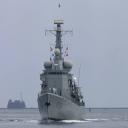Fragata: (39, 5, 88, 124)
